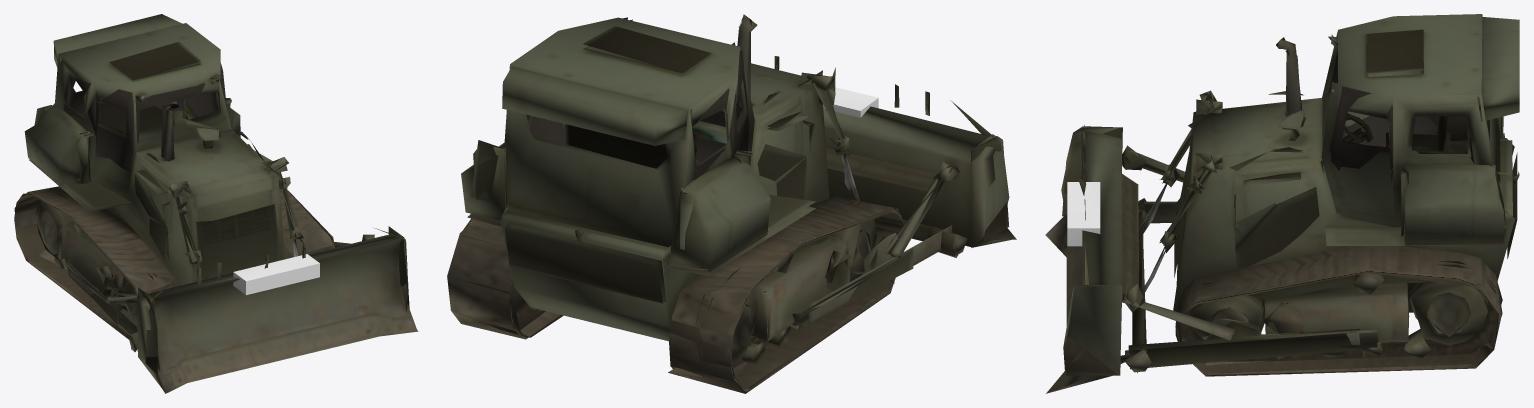
The model's file is us-dozer.glb.
3 renders of one model, left to right at view 1: azimuth 30°, elevation 25°; view 2: azimuth 150°, elevation 25°; view 3: azimuth 270°, elevation 25°, orthographic. The views are drawn at different scales.
Visible parts, largest first — view 1: us-dozer; view 2: us-dozer; view 3: us-dozer.
Boxes of the visible parts, <box> form: us-dozer: <box>14,14,418,393</box>; us-dozer: <box>447,14,1016,393</box>; us-dozer: <box>1045,14,1519,393</box>.
Bounding box in the file's own units: 0.688 × 0.54 × 0.86.
Materials: 2 (1 with a texture image).
